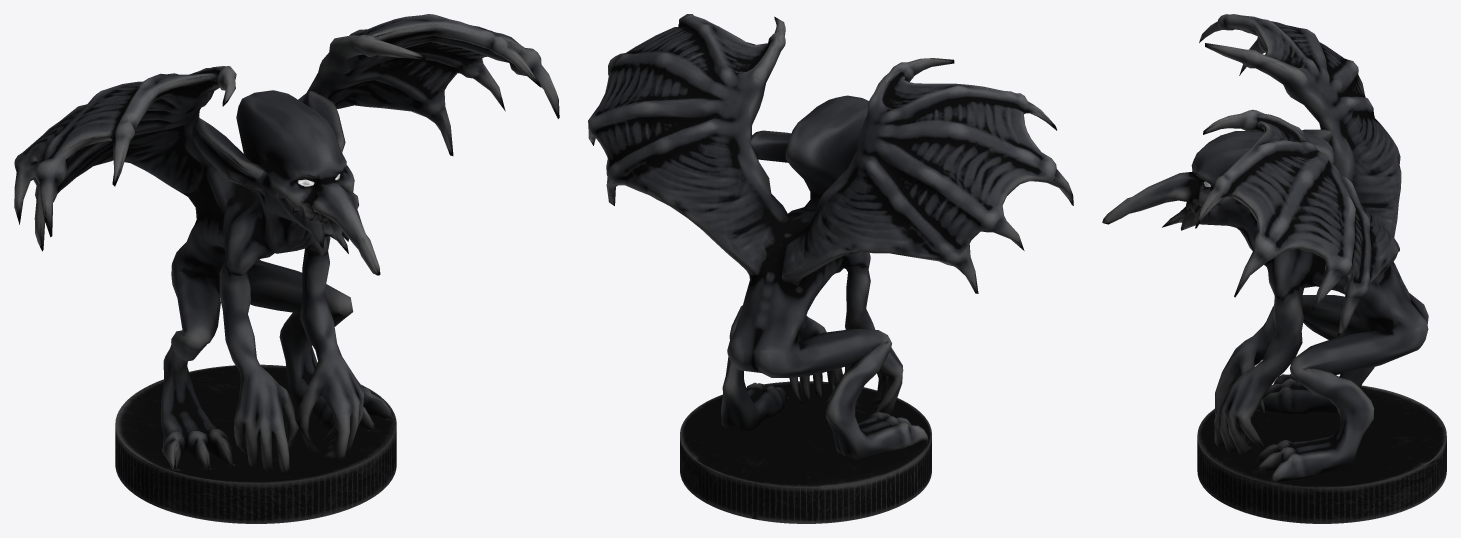
File: MZ4250 - Mephit (Smoke).glb
3 renders of one model, left to right at view 1: azimuth 30°, elevation 25°; view 2: azimuth 150°, elevation 25°; view 3: azimuth 270°, elevation 25°, orthographic. The views are drawn at different scales.
Visible parts, largest first — view 1: body_low.001, base_low.001; view 2: body_low.001, base_low.001; view 3: body_low.001, base_low.001.
Part boxes in pixels (x1=…): body_low.001: x1=14, y1=14, x2=559, y2=473; base_low.001: x1=115, y1=364, x2=396, y2=523; body_low.001: x1=588, y1=14, x2=1073, y2=460; base_low.001: x1=680, y1=381, x2=931, y2=523; body_low.001: x1=1102, y1=14, x2=1428, y2=482; base_low.001: x1=1197, y1=385, x2=1446, y2=523.
Bounding box in the file's own units: 3.06 × 2.53 × 2.01.
Materials: 1 (1 with a texture image).
